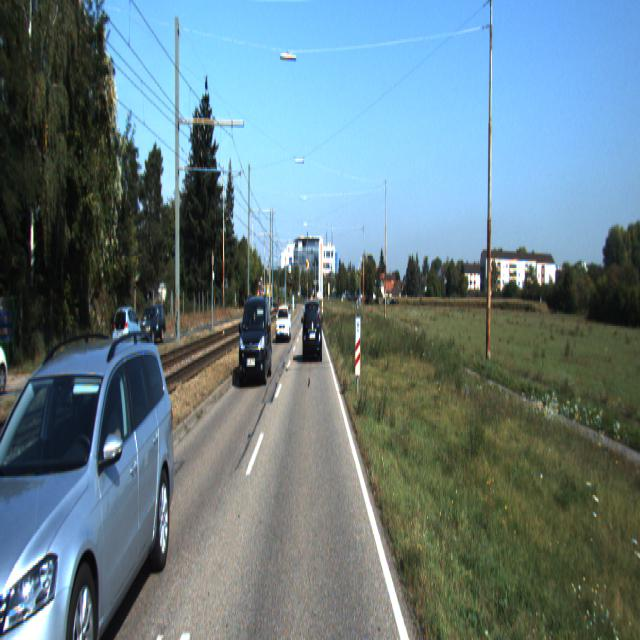Car: (0, 331, 183, 638), (238, 293, 273, 388), (113, 304, 143, 355), (138, 302, 168, 348), (303, 297, 322, 362), (276, 304, 291, 343)
